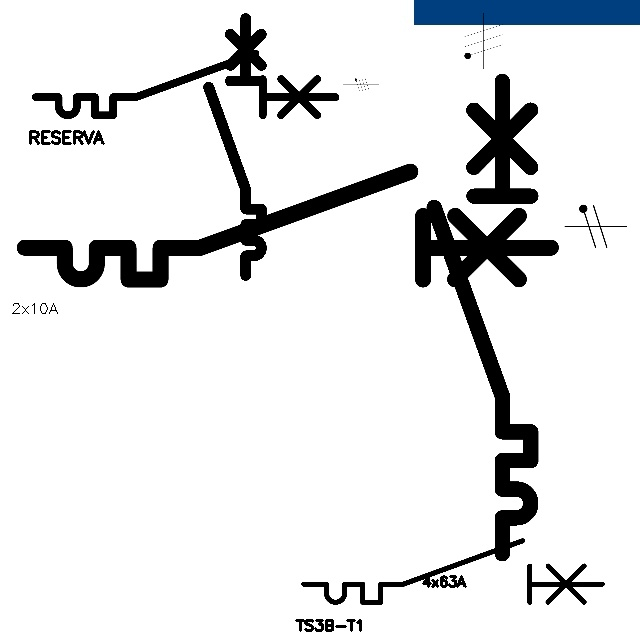interruptor_termomagnetico: (11, 158, 564, 293), (422, 69, 543, 566), (28, 46, 343, 123), (296, 533, 610, 610), (202, 12, 268, 282)
